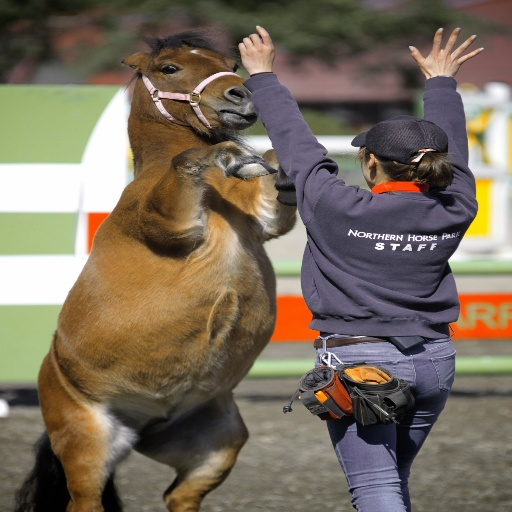hand: (404, 25, 486, 79), (239, 23, 282, 83)
